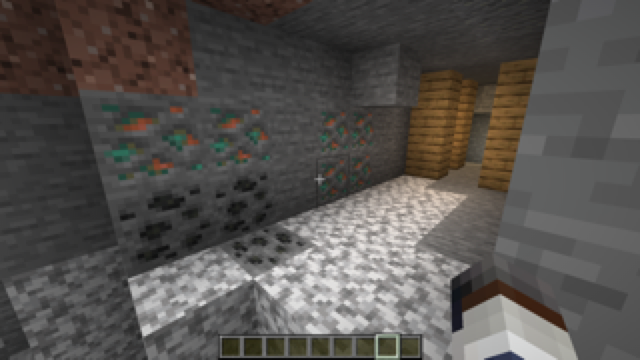coal: (102, 175, 309, 272)
copper: (87, 97, 277, 173), (316, 108, 376, 200)
